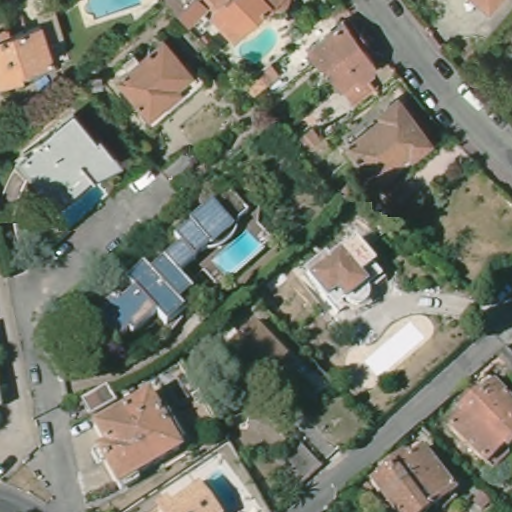pool: (211, 229, 264, 279), (205, 469, 249, 512), (237, 27, 279, 68), (81, 1, 144, 19)
